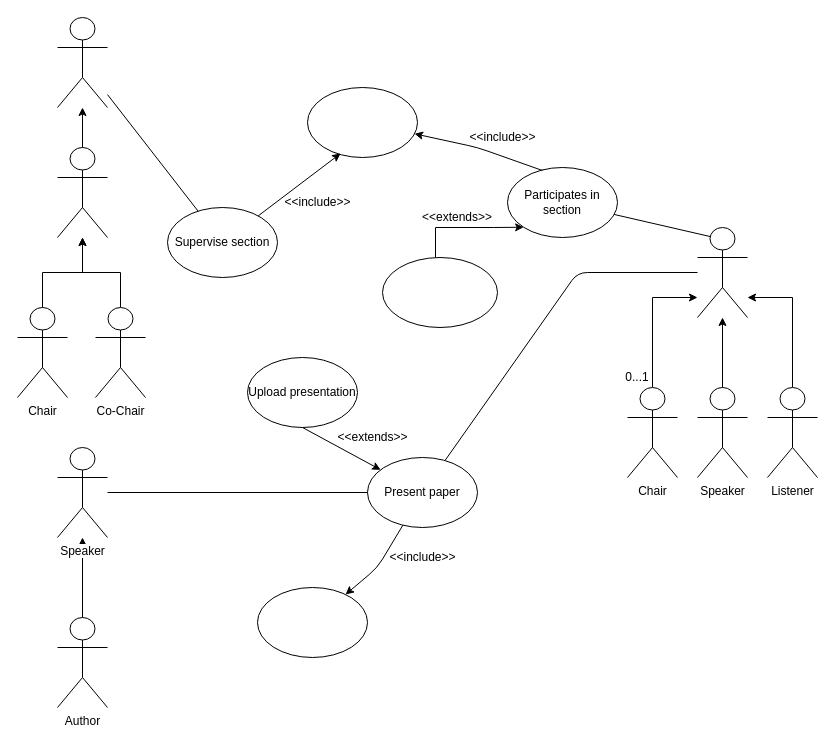
Some shapes in this 835 by 746 pixel diagram are drawn without their labels. The centre of each missing label's shape, as x and y in pixels:
"Accept paper" belongs at [312,622].
"Assign room to section" belongs at [362,122].
"Participant" belongs at [722,272].
"PC" belongs at [82,192].
"Session Chair" belongs at [82,62].
"Specify section" belongs at [440,292].
